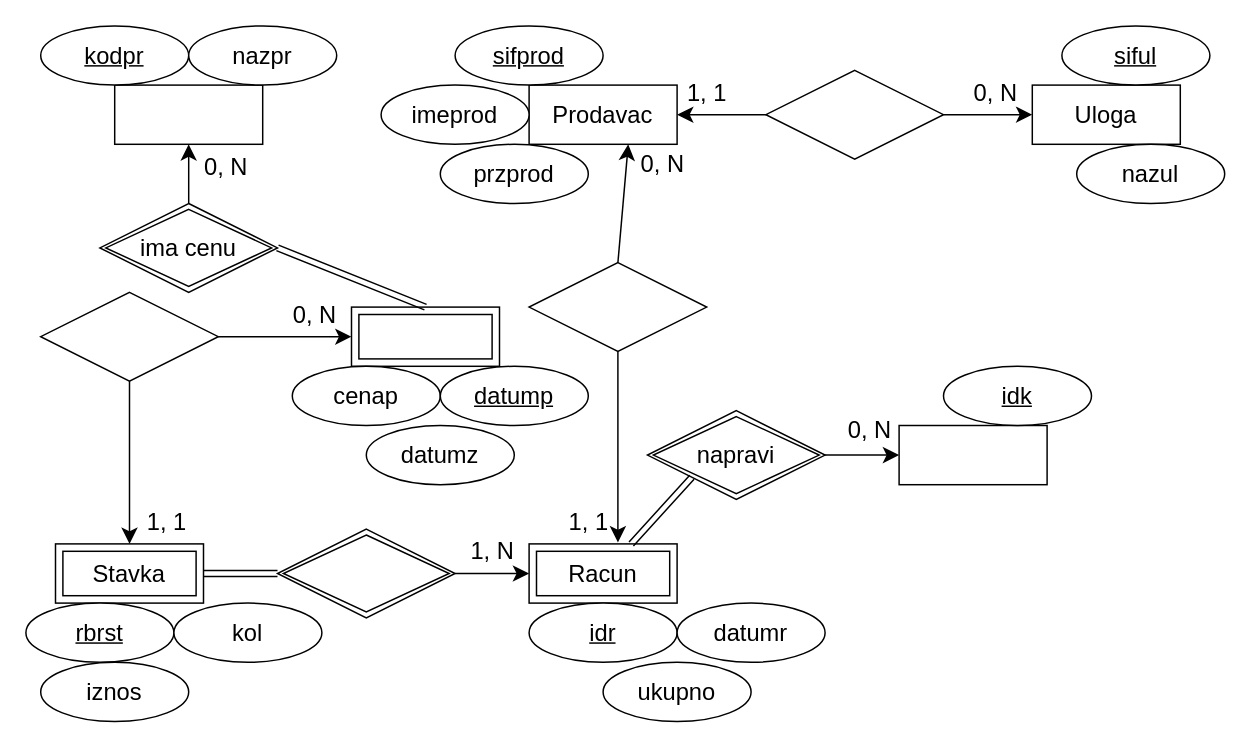
Image size: 1251x747. Some labels were removed from this diagram. The shapes that lost their labels are listed below. From the top down, each one's centre as x and y in pixels, then its label:
[188,114]: Proizvod
[854,114]: imaprod
[617,306]: obradjuje
[128,336]: ima proizvod
[425,336]: Cenovnik
[972,454]: Kasa
[365,573]: pripada
